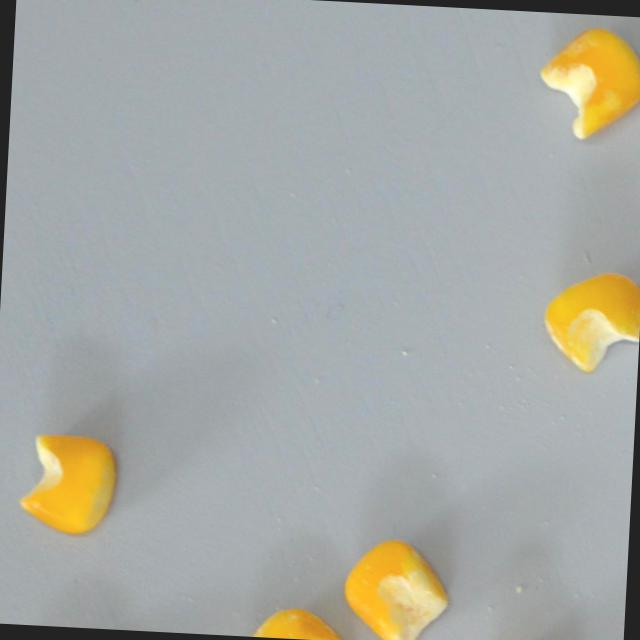no_canjicado: (10, 421, 129, 541)
no_desgerminado: (338, 533, 458, 640)
pelicula: (531, 19, 640, 146), (535, 264, 640, 377), (234, 601, 360, 640)
